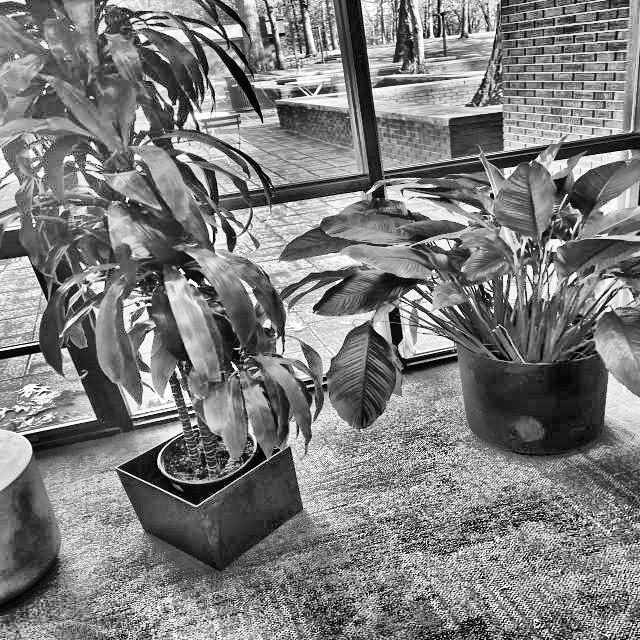plants: (0, 0, 296, 461), (366, 165, 640, 354)
